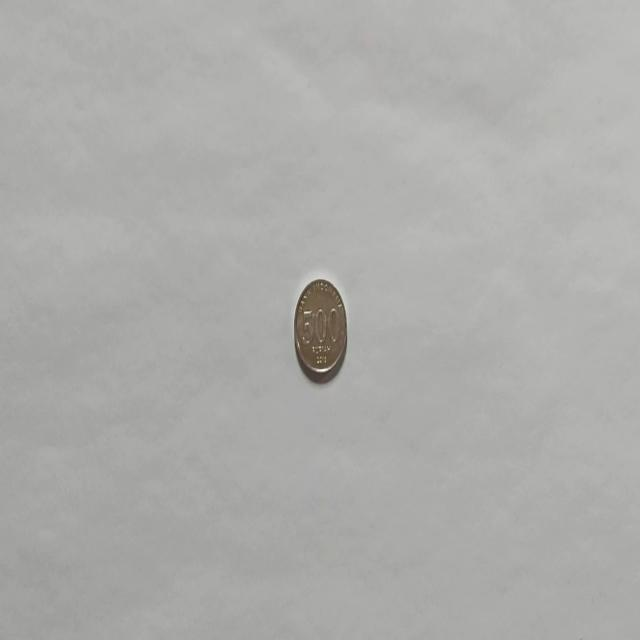lima ratus rupiah: (292, 276, 348, 382)
